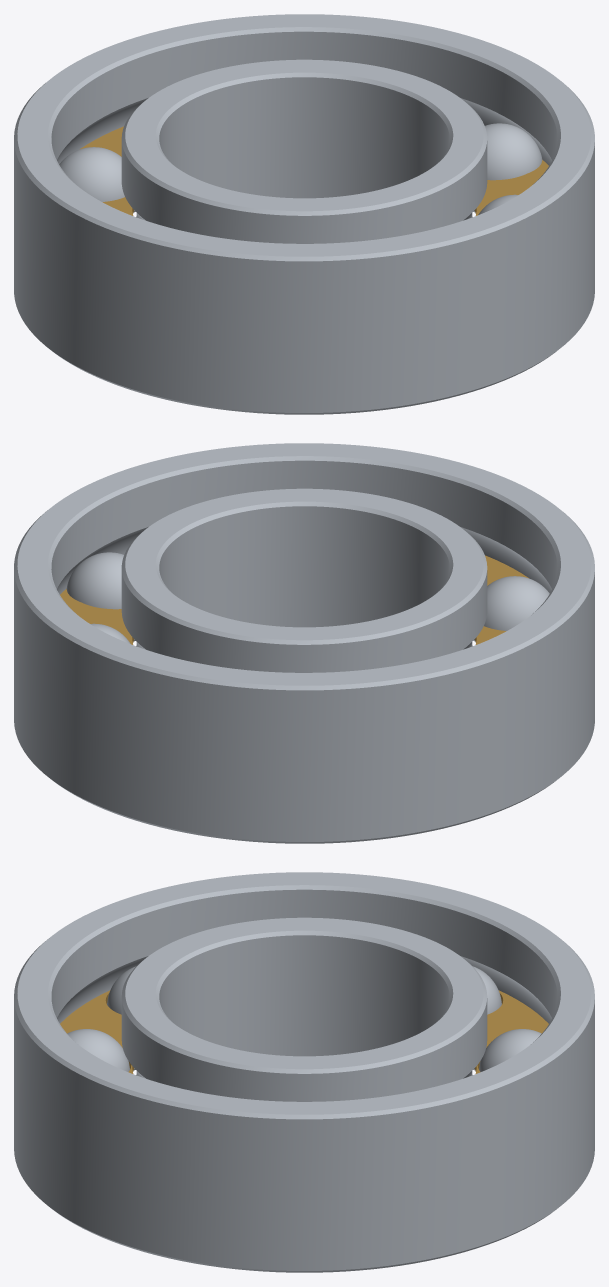
The model's file is edited.glb.
3 views of the same model, one above another, from view 1: azimuth 30°, elevation 25°; view 2: azimuth 150°, elevation 25°; view 3: azimuth 270°, elevation 25° (orthographic).
Parts seen in each view (by area): view 1: outer_race, inner_race, ball_0000, ball_0005, cage; view 2: outer_race, inner_race, ball_0000, ball_0003, cage; view 3: outer_race, inner_race, cage, ball_0002, ball_0006.
Boxes of the visible parts, <box> form: outer_race: <box>14,14,594,414</box>; inner_race: <box>121,59,487,243</box>; ball_0000: <box>485,123,542,180</box>; ball_0005: <box>59,147,124,201</box>; cage: <box>80,126,548,215</box>; outer_race: <box>14,443,594,843</box>; inner_race: <box>121,488,487,672</box>; ball_0000: <box>66,552,123,609</box>; ball_0003: <box>484,576,549,630</box>; cage: <box>60,555,528,644</box>; outer_race: <box>14,872,594,1272</box>; inner_race: <box>121,917,487,1101</box>; cage: <box>60,990,548,1073</box>; ball_0002: <box>67,1029,129,1071</box>; ball_0006: <box>479,1029,541,1071</box>.
Bounding box in the file's own units: 0.08 × 0.024 × 0.08.
